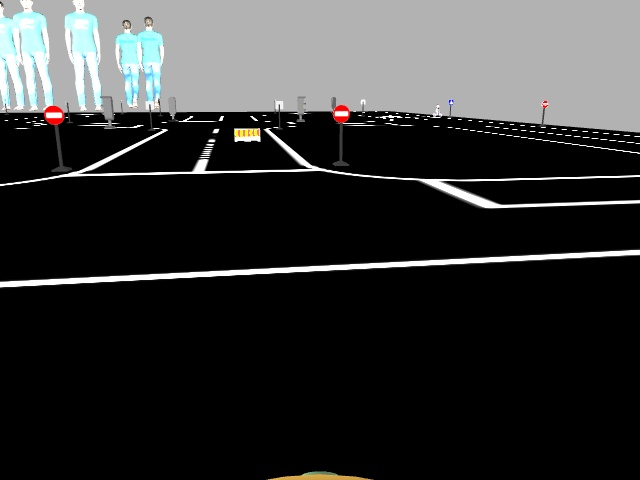ClosedRoadStand: (233, 129, 259, 139)
NoEntry: (44, 106, 64, 126), (333, 104, 349, 120)
